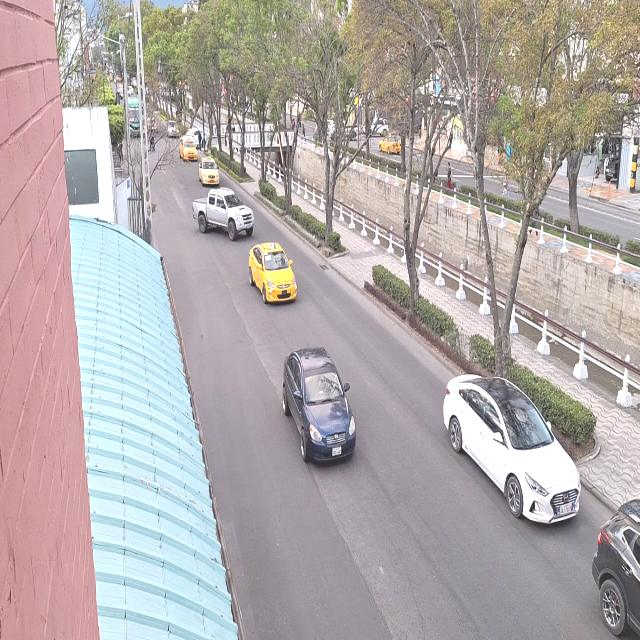CMT: (193, 189, 254, 238)
SED: (441, 370, 576, 526), (281, 353, 355, 463), (250, 244, 297, 304), (194, 153, 221, 188)
